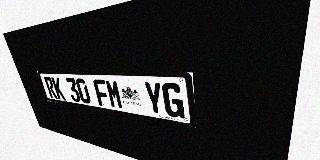0: (75, 78, 92, 104)
3: (65, 78, 81, 103)
F: (92, 79, 111, 107)
G: (161, 82, 185, 119)
K: (51, 77, 66, 100)
M: (105, 80, 124, 109)
R: (43, 77, 58, 99)
Y: (143, 81, 165, 116)
